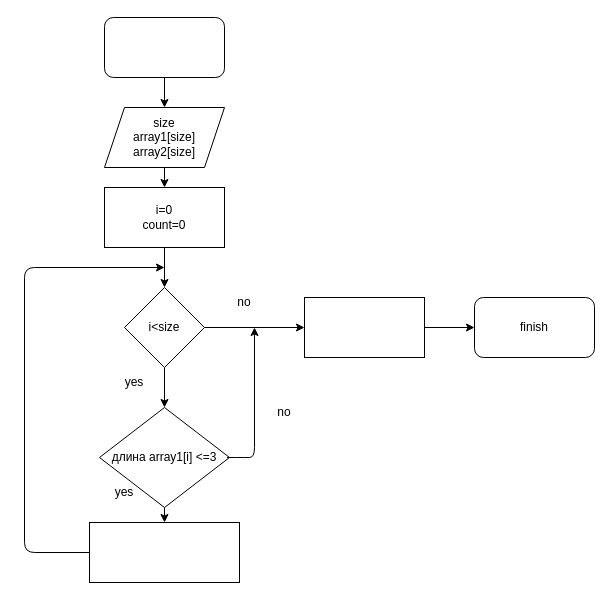
Some shapes in this 612 by 600 pixel diagram are drawn without their labels. The shapes that lost their labels are listed below. From the top down, each one's centre as x and y in pixels, then its label:
At pixel 164 47: "START".
At pixel 364 327: "array2[count]".
At pixel 164 552: "array2[count]=array1[i] count=count+1".
